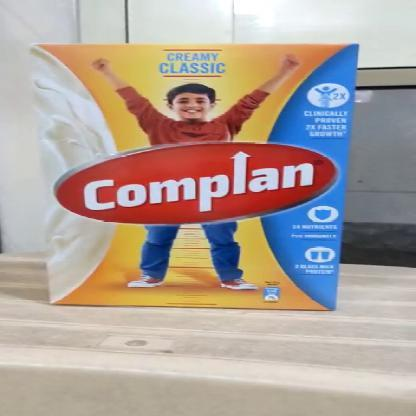Complan Classic Creme: (44, 46, 342, 308)
